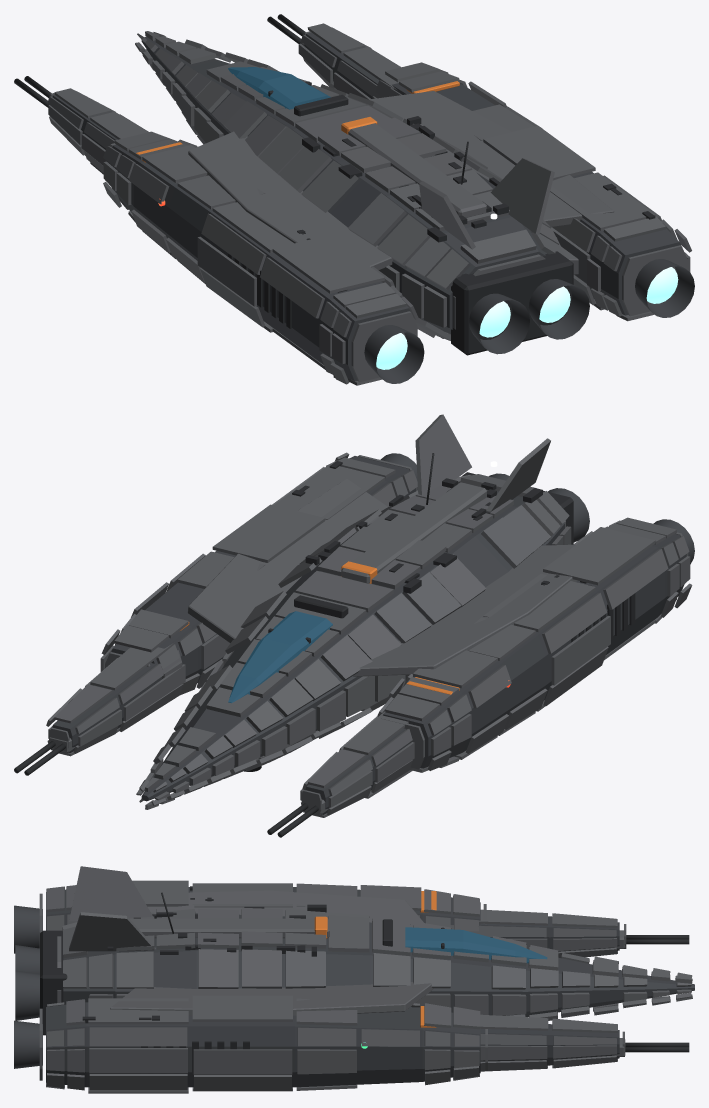
File: interceptor.glb
The picture shows the model from 3 angles, top to bottom: view 1: azimuth 30°, elevation 25°; view 2: azimuth 150°, elevation 25°; view 3: azimuth 270°, elevation 25°; orthographic projection. The views are drawn at different scales.
Parts seen in each view (by area): view 1: HullArmour, PodArmour_0, PodArmour_1, Pod_0, Shoulder_0, Hull, Shoulder_1, EngineBlock, MandibleArmour_1, MandibleArmour_0, Spine, Pod_1 (+15 smaller); view 2: HullArmour, PodArmour_0, PodArmour_1, Shoulder_0, Pod_0, Shoulder_1, Hull, MandibleArmour_1, MandibleArmour_0, Spine, Canopy, Pod_1 (+8 smaller); view 3: HullArmour, PodArmour_1, Pod_1, Hull, PodArmour_0, MandibleArmour_1, Shoulder_1, MandibleArmour_0, Shoulder_0, DorsalFin_-1, Spine, Canopy (+13 smaller).
Part boxes in pixels (x1,y1,x2,y2): HullArmour: [135, 31, 565, 340]; PodArmour_0: [103, 131, 418, 385]; PodArmour_1: [372, 62, 691, 321]; Pod_0: [108, 144, 410, 381]; Shoulder_0: [188, 131, 393, 270]; Hull: [141, 36, 546, 333]; Shoulder_1: [369, 91, 614, 227]; EngineBlock: [451, 251, 573, 355]; MandibleArmour_1: [298, 23, 400, 99]; MandibleArmour_0: [47, 88, 148, 174]; Spine: [348, 123, 486, 217]; Pod_1: [392, 83, 681, 315]; HullArmour: [136, 474, 571, 809]; PodArmour_0: [377, 517, 692, 772]; PodArmour_1: [100, 452, 417, 695]; Shoulder_0: [353, 544, 577, 676]; Pod_0: [383, 534, 686, 768]; Shoulder_1: [187, 479, 387, 643]; Hull: [141, 482, 564, 801]; MandibleArmour_1: [46, 643, 185, 756]; MandibleArmour_0: [300, 711, 414, 817]; Spine: [341, 482, 486, 583]; Canopy: [228, 611, 332, 703]; Pod_1: [111, 456, 415, 683]; HullArmour: [57, 905, 692, 1020]; PodArmour_1: [39, 995, 487, 1093]; Pod_1: [46, 1002, 480, 1087]; Hull: [63, 913, 694, 1016]; PodArmour_0: [39, 880, 486, 948]; MandibleArmour_1: [480, 1014, 624, 1071]; Shoulder_1: [110, 982, 433, 1015]; MandibleArmour_0: [450, 909, 626, 958]; Shoulder_0: [148, 890, 423, 927]; DorsalFin_-1: [69, 866, 152, 921]; Spine: [130, 918, 329, 938]; Canopy: [405, 927, 547, 963].
Size of the model in its own units: 6.2 by 2.77 by 11.75.
